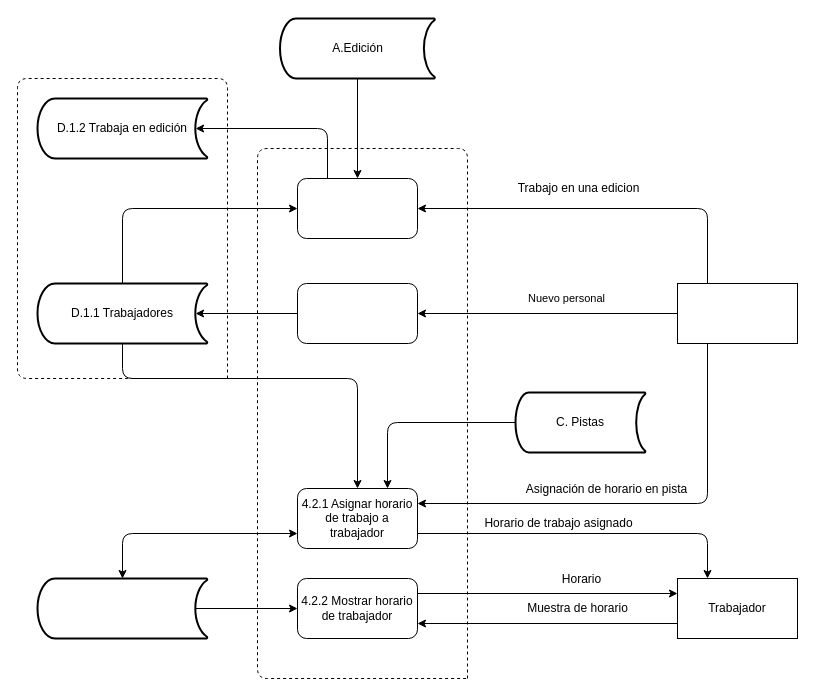
Image size: 815x697. Some labels were removed from this diagram. The centre of each missing label's shape, as x and y in pixels:
"4.1.1 Insertar nuevo personal" goes at [357,313].
"4.1.2 Trabajar en edición" goes at [357,208].
"E Horarios de Trabajo" goes at [122,608].
"Gestor de torneo" goes at [737,313].
